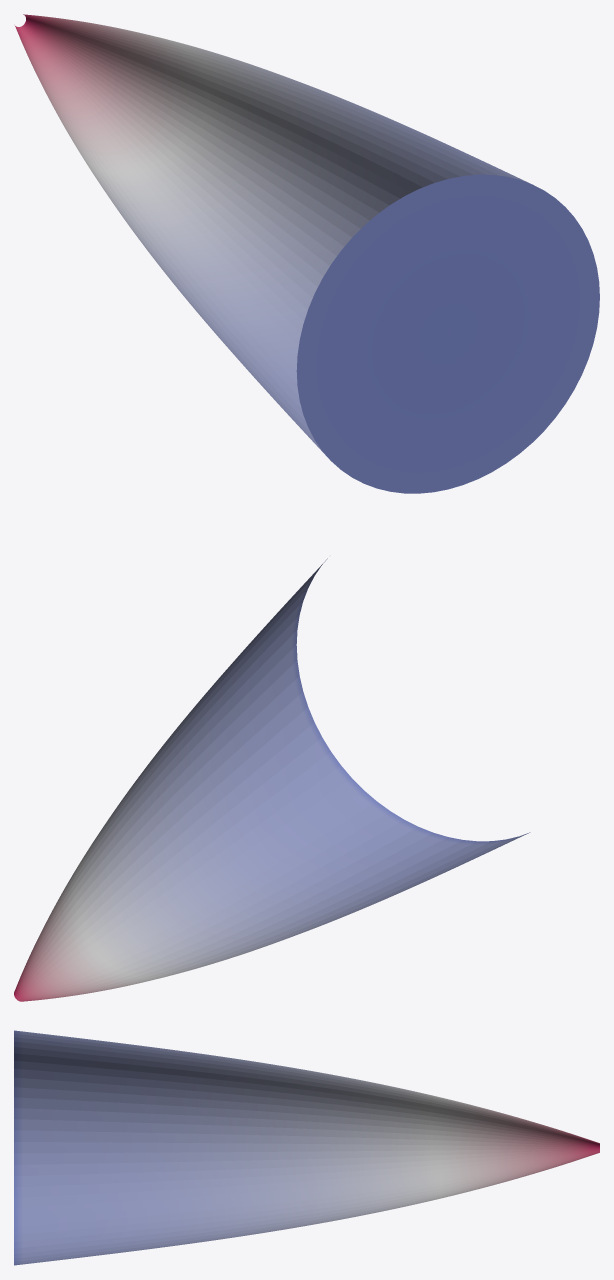
Rendered from frame_019.glb.
3 renders of one model, top to bottom at view 1: azimuth 30°, elevation 25°; view 2: azimuth 150°, elevation 25°; view 3: azimuth 270°, elevation 25°, orthographic. The views are drawn at different scales.
Visible parts, largest first — view 1: world; view 2: world; view 3: world.
Boxes of the visible parts, x1=… form: world: x1=15, y1=14, x2=599, y2=493; world: x1=14, y1=558, x2=530, y2=1001; world: x1=14, y1=1030, x2=599, y2=1265.
Bounding box in the file's own units: 0.4087 × 0.4 × 1.
